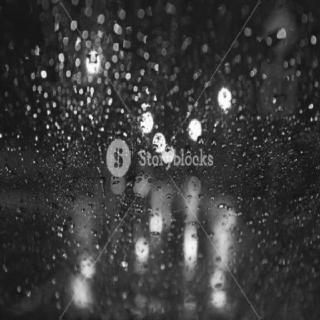other: (61, 21, 108, 80), (216, 86, 236, 110)
